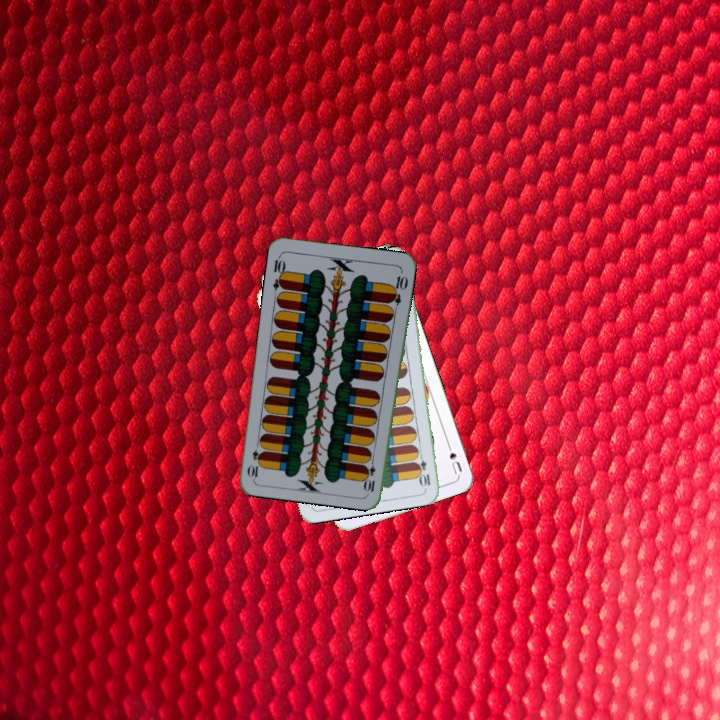E10: (269, 252, 289, 292), (414, 448, 433, 489), (362, 453, 378, 494)
SU: (442, 437, 465, 477)
